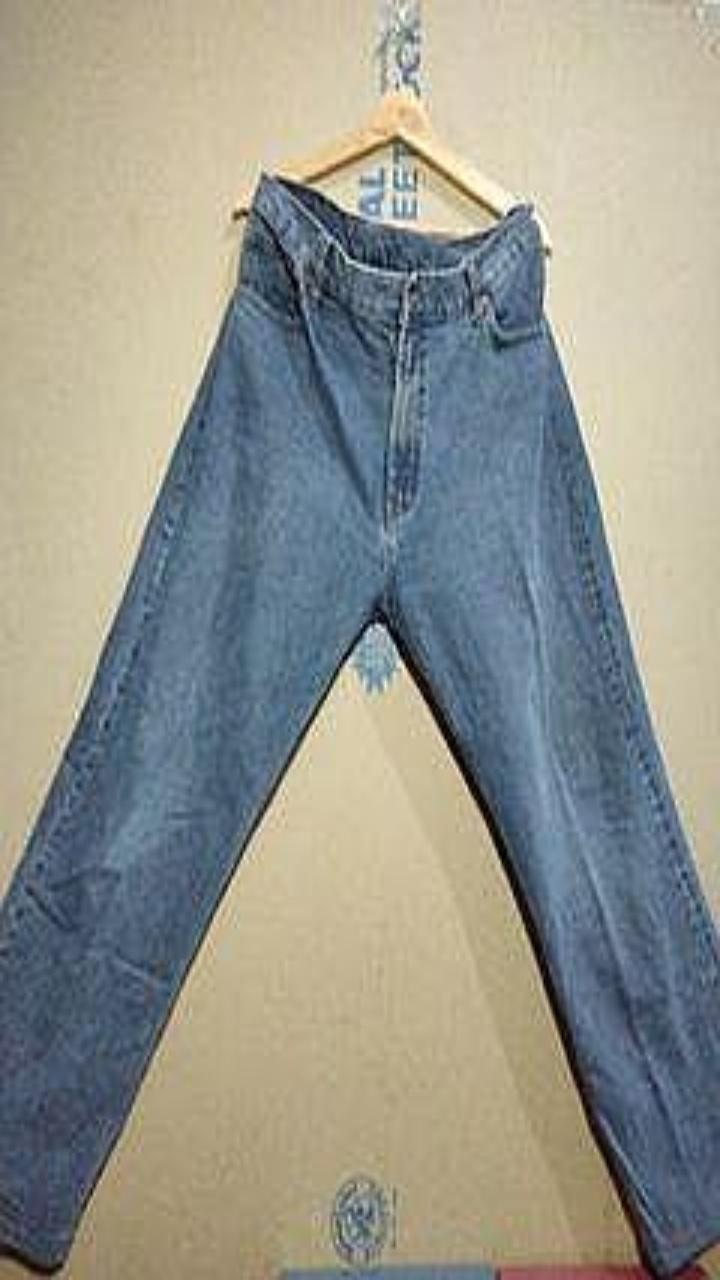Jeans: (0, 171, 719, 1275)
